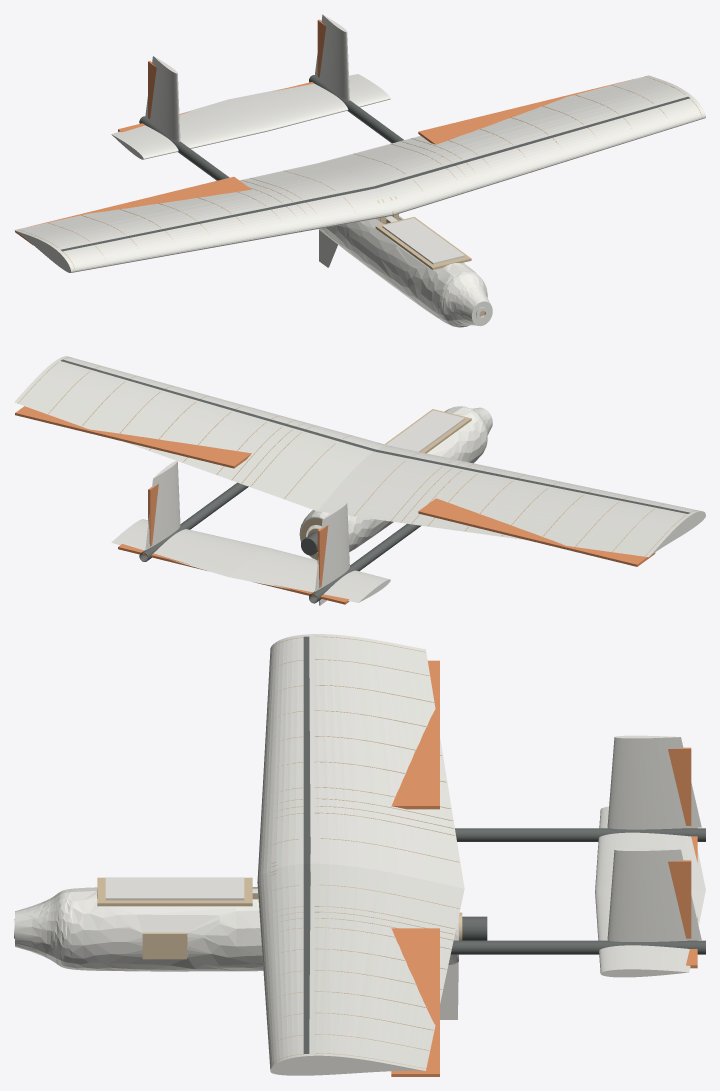
The model's file is est34-r13.glb.
3 renders of one model, top to bottom at view 1: azimuth 30°, elevation 25°; view 2: azimuth 150°, elevation 25°; view 3: azimuth 270°, elevation 25°, orthographic. The views are drawn at different scales.
Visible parts, largest first — view 1: wing_starboard, wing_port, pod_shell_candidate, htail_port, htail_starboard, vtail_starboard, vtail_port, hatch_cover, aileron_starboard, aileron_port, spar_cap_upper_starboard, spar_cap_upper_port (+3 smaller); view 2: wing_starboard, wing_port, htail_port, htail_starboard, pod_shell_candidate, aileron_port, aileron_starboard, vtail_starboard, vtail_port, hatch_cover, boom_port, boom_starboard (+6 smaller); view 3: wing_port, wing_starboard, pod_shell_candidate, vtail_port, vtail_starboard, htail_starboard, aileron_starboard, hatch_cover, aileron_port, boom_starboard, htail_port, boom_port (+7 smaller).
Part boxes in pixels (<box>): wing_starboard: <box>317,75,705,215</box>; wing_port: <box>14,163,392,272</box>; pod_shell_candidate: <box>318,216,492,327</box>; htail_port: <box>111,99,269,159</box>; htail_starboard: <box>229,74,390,130</box>; vtail_starboard: <box>315,14,349,100</box>; vtail_port: <box>145,56,180,141</box>; hatch_cover: <box>382,218,464,264</box>; aileron_starboard: <box>418,79,633,144</box>; aileron_port: <box>15,176,251,244</box>; spar_cap_upper_starboard: <box>374,96,689,188</box>; spar_cap_upper_port: <box>60,186,375,251</box>; wing_starboard: <box>14,356,388,510</box>; wing_port: <box>317,445,705,557</box>; htail_port: <box>229,547,390,602</box>; htail_starboard: <box>111,519,267,576</box>; pod_shell_candidate: <box>299,406,492,560</box>; aileron_port: <box>418,498,655,566</box>; aileron_starboard: <box>15,406,251,468</box>; vtail_starboard: <box>145,460,180,550</box>; vtail_port: <box>315,502,349,591</box>; hatch_cover: <box>386,410,464,451</box>; boom_port: <box>309,523,421,603</box>; boom_starboard: <box>139,482,248,561</box>; wing_port: <box>257,634,464,888</box>; wing_starboard: <box>257,863,464,1075</box>; pod_shell_candidate: <box>15,887,458,971</box>; vtail_port: <box>607,735,701,829</box>; vtail_starboard: <box>607,848,701,941</box>; htail_starboard: <box>595,887,705,977</box>; aileron_starboard: <box>391,928,439,1076</box>; hatch_cover: <box>105,877,244,900</box>; aileron_port: <box>391,660,439,809</box>; boom_starboard: <box>450,940,705,954</box>; htail_port: <box>595,806,705,890</box>; boom_port: <box>455,828,705,841</box>.
Size of the model in its own units: 1.8 by 0.45 by 1.25.
